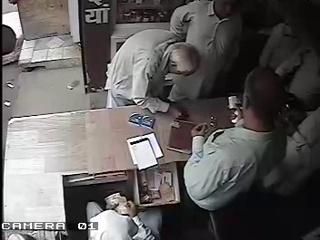Normal: (182, 66, 292, 239), (104, 29, 200, 110), (168, 0, 244, 102), (86, 192, 158, 240)
